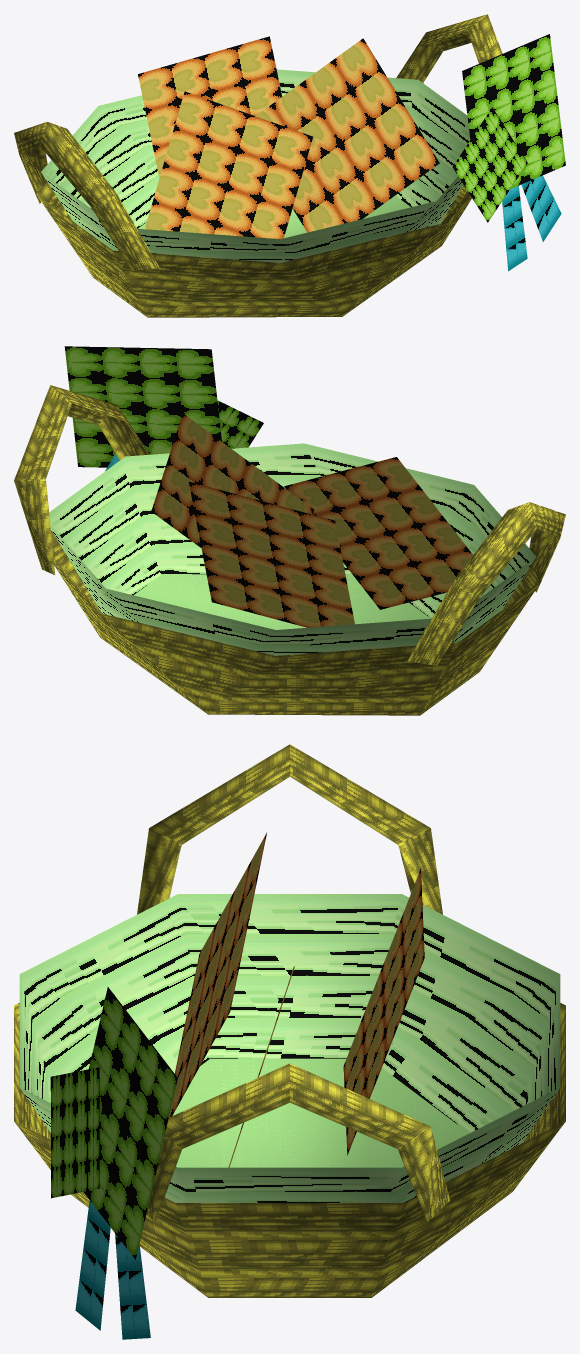
The model's file is 0053ucc_m_ck0_e.gltf.
The picture shows the model from 3 angles, top to bottom: view 1: azimuth 30°, elevation 25°; view 2: azimuth 150°, elevation 25°; view 3: azimuth 270°, elevation 25°; orthographic projection. The views are drawn at different scales.
Parts seen in each view (by area): view 1: 0053ucc_m_ck0_e; view 2: 0053ucc_m_ck0_e; view 3: 0053ucc_m_ck0_e.
Part boxes in pixels (<box>): 0053ucc_m_ck0_e: <box>14,14,565,317</box>; 0053ucc_m_ck0_e: <box>14,346,565,715</box>; 0053ucc_m_ck0_e: <box>14,744,565,1339</box>.
Size of the model in its own units: 0.7339 by 0.3003 by 0.498.
Materials: 5 (5 with a texture image).
